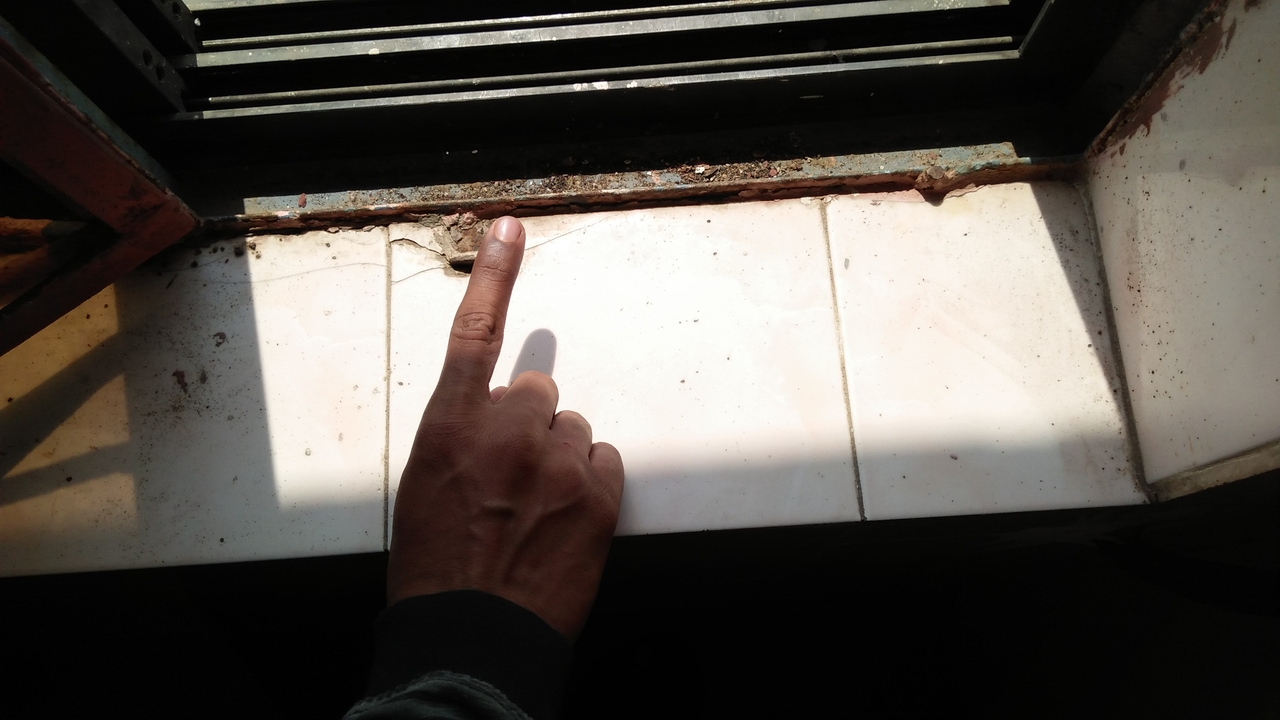fingertip: (474, 208, 530, 256)
